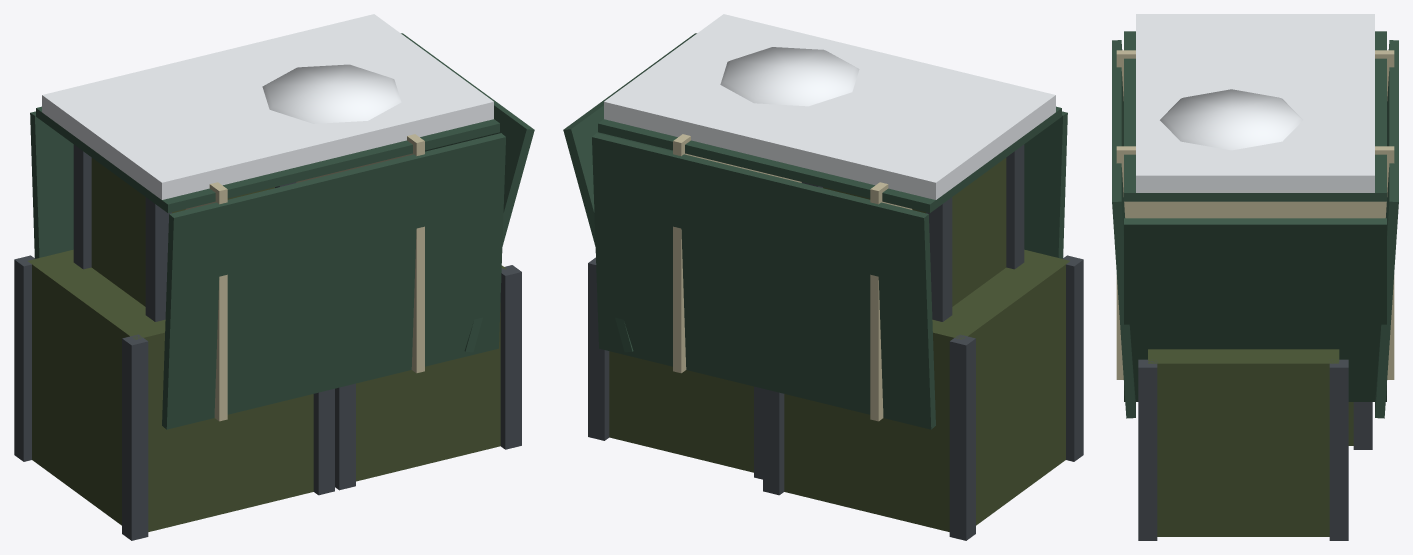
File: so_tarp_crates.glb
The picture shows the model from 3 angles, left to right: view 1: azimuth 30°, elevation 25°; view 2: azimuth 150°, elevation 25°; view 3: azimuth 270°, elevation 25°; orthographic projection.
Visible parts, largest first — view 1: so_tarp_crates; view 2: so_tarp_crates; view 3: so_tarp_crates.
Boxes of the visible parts, left/top/right/bottom form: so_tarp_crates: left=14, top=14, right=534, bottom=540; so_tarp_crates: left=563, top=14, right=1083, bottom=540; so_tarp_crates: left=1112, top=14, right=1398, bottom=540.
Bounding box in the file's own units: 1.91 × 1.66 × 1.2.
